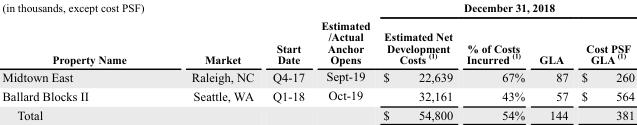table: (1, 1, 634, 121)
table column: (1, 1, 158, 121), (158, 1, 262, 121), (376, 1, 459, 121), (459, 1, 531, 121), (312, 1, 376, 121), (574, 1, 634, 121), (262, 1, 312, 121), (531, 1, 574, 121)
table column header: (1, 1, 634, 67)
table row: (1, 16, 634, 67), (1, 85, 634, 105), (1, 67, 634, 85), (1, 105, 634, 121), (1, 1, 634, 16)
table spanning cell: (1, 1, 376, 16), (376, 1, 634, 16)
